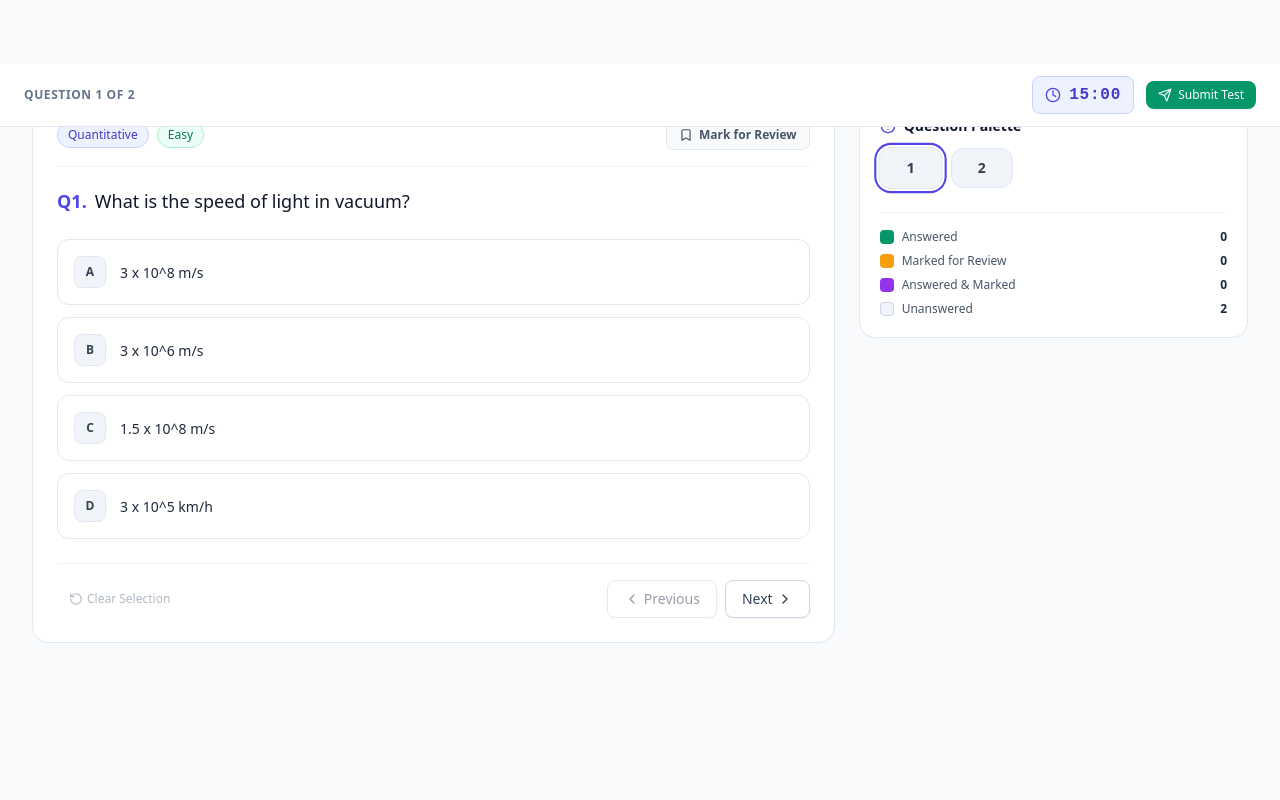
Candidate Assessment UI Flow › Assessment Engine Reliability & Concurrency › stays on page and displays network error, resetting submission lock for retry
The image size is (1280, 800).
Click the button "Submit Test" at (1201, 95), box [1146,81,1256,109]
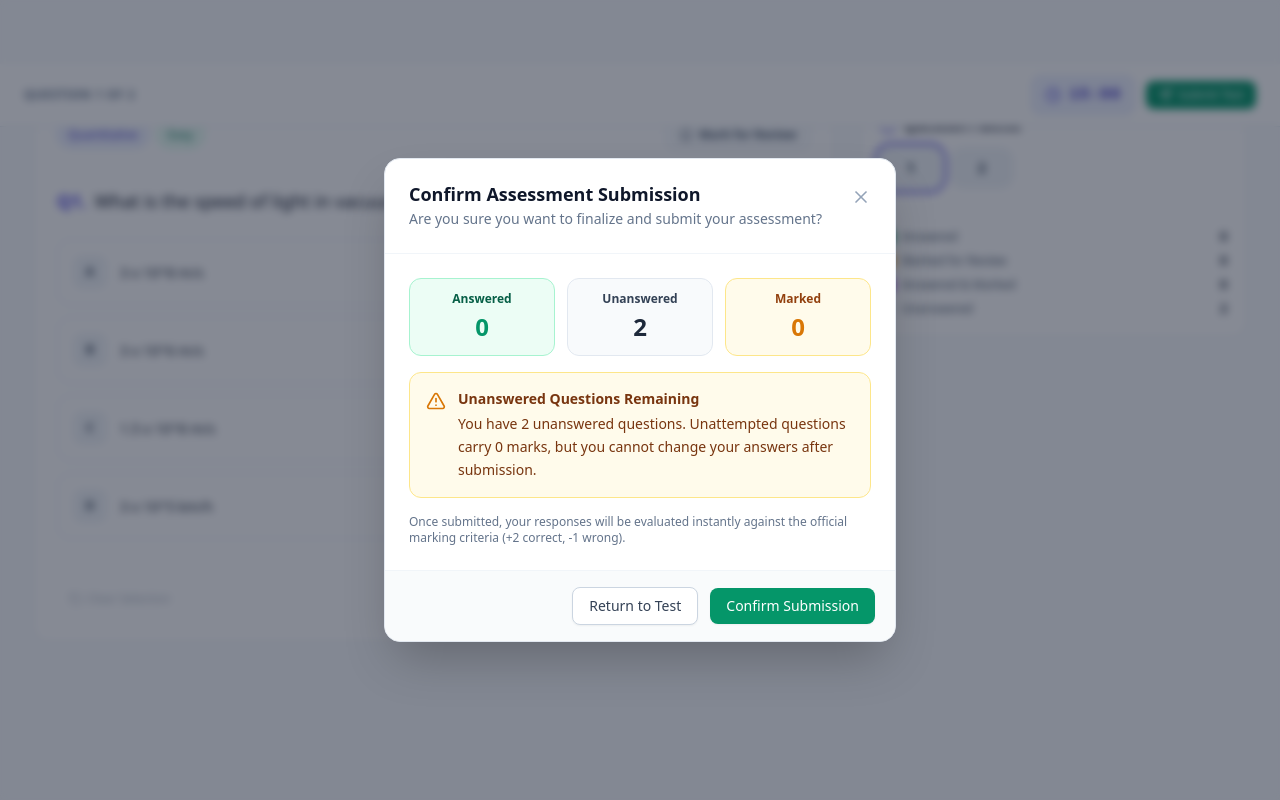
Click the button "Confirm Submission" at (793, 606), box [710,588,875,624]
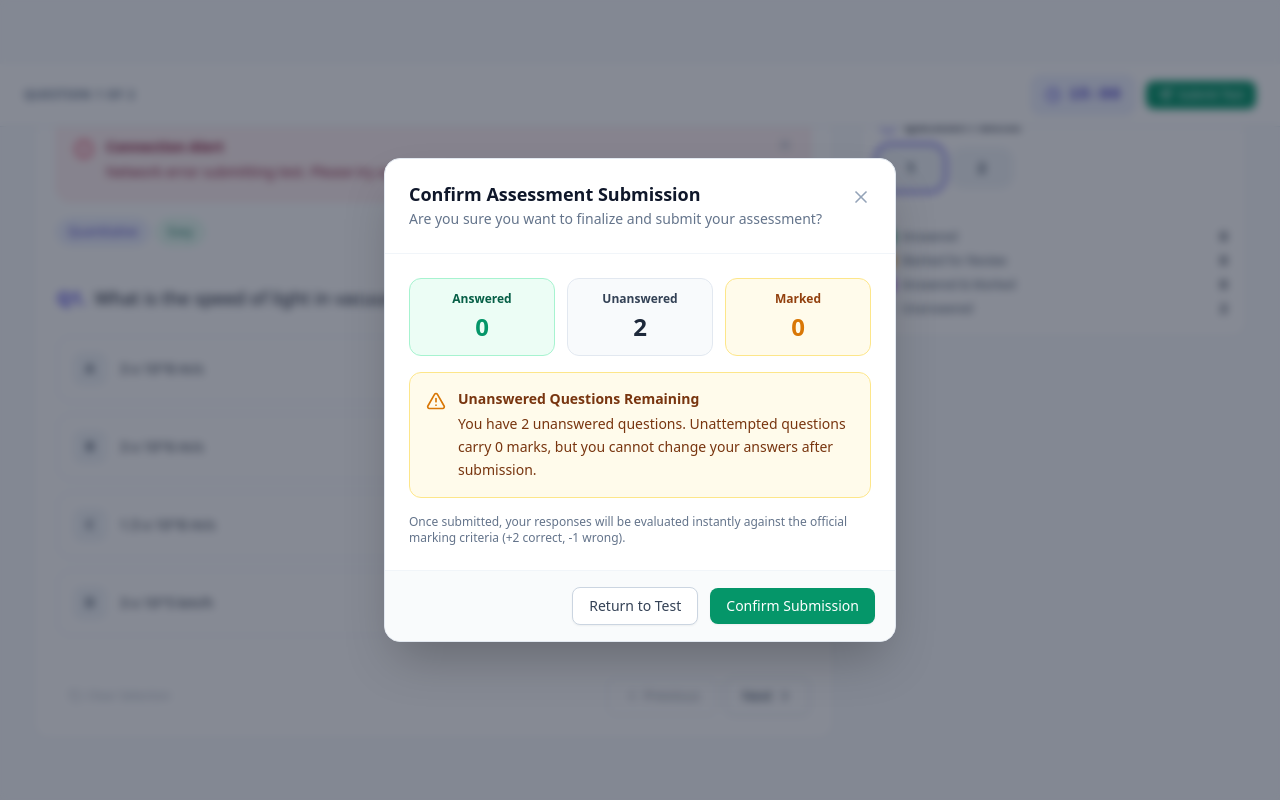
Result: the text "Network error submitting test. Please try again." is shown at [106,162,418,181]
